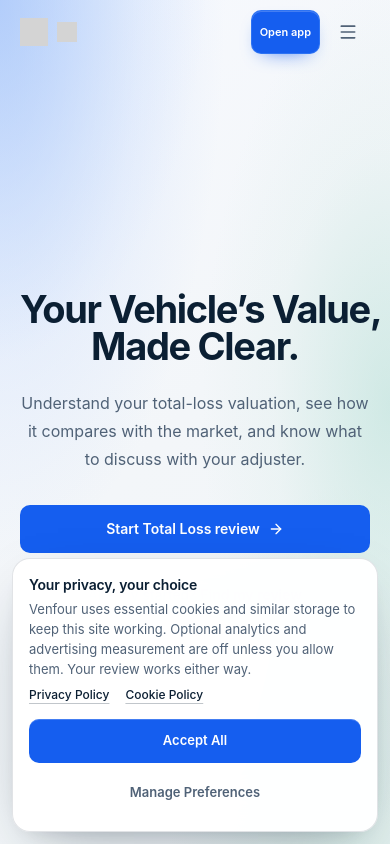
it: Venfour application › keeps public mobile navigation available to signed-in visitors
Click the button named "Open navigation" at (348, 32), box 326,10 -> 370,54
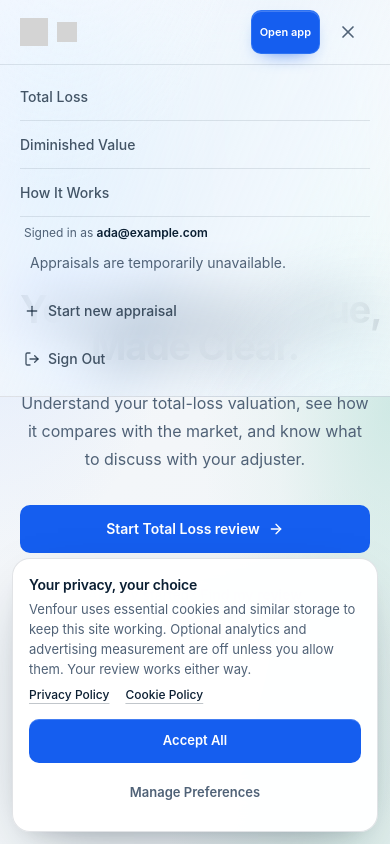
Expected: the link "Total Loss" is shown, 20,73 -> 370,121
